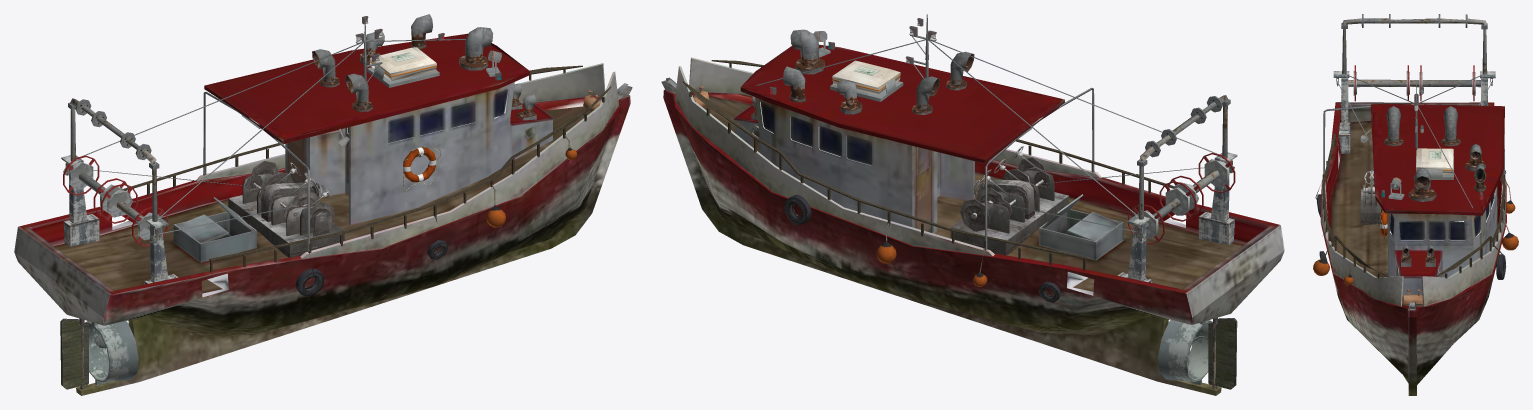
File: shrimp_trawler.glb
3 views of the same model, side by side, from view 1: azimuth 30°, elevation 25°; view 2: azimuth 150°, elevation 25°; view 3: azimuth 270°, elevation 25° (orthographic). The views are drawn at different scales.
Visible parts, largest first — view 1: bateau_peche_bateau_peche_coque_0, bateau_peche_chalut_0, bateau_peche_machinerie_0, bateau_peche_helice_0, bateau_peche_aerations_0, bateau_peche_rembarde_0, bateau_peche_metal_0, bateau_peche_accessoires_0, bateau_peche_pneu_0, bateau_peche_bouee_sauvetage_0, lumieres_eclairage_0; view 2: bateau_peche_bateau_peche_coque_0, bateau_peche_chalut_0, bateau_peche_machinerie_0, bateau_peche_helice_0, bateau_peche_aerations_0, bateau_peche_rembarde_0, bateau_peche_metal_0, bateau_peche_accessoires_0, bateau_peche_pneu_0, lumieres_eclairage_0, bateau_peche_bouee_0; view 3: bateau_peche_bateau_peche_coque_0, bateau_peche_chalut_0, bateau_peche_aerations_0, bateau_peche_rembarde_0, bateau_peche_accessoires_0, bateau_peche_metal_0, bateau_peche_machinerie_0, bateau_peche_bouee_0, lumieres_eclairage_0, bateau_peche_pneu_0, bateau_peche_bouee_sauvetage_0.
Boxes of the visible parts, <box> form: bateau_peche_bateau_peche_coque_0: <box>14,33,630,395</box>; bateau_peche_chalut_0: <box>61,98,178,313</box>; bateau_peche_machinerie_0: <box>228,160,344,257</box>; bateau_peche_helice_0: <box>60,318,138,389</box>; bateau_peche_aerations_0: <box>312,14,536,120</box>; bateau_peche_rembarde_0: <box>123,65,611,272</box>; bateau_peche_metal_0: <box>82,17,465,252</box>; bateau_peche_accessoires_0: <box>367,47,632,111</box>; bateau_peche_pneu_0: <box>295,216,447,296</box>; bateau_peche_bouee_sauvetage_0: <box>402,146,440,191</box>; lumieres_eclairage_0: <box>241,16,501,147</box>; bateau_peche_bateau_peche_coque_0: <box>663,44,1284,395</box>; bateau_peche_chalut_0: <box>1117,95,1237,312</box>; bateau_peche_machinerie_0: <box>950,146,1068,255</box>; bateau_peche_helice_0: <box>1158,317,1237,389</box>; bateau_peche_aerations_0: <box>751,29,974,119</box>; bateau_peche_rembarde_0: <box>682,60,1173,270</box>; bateau_peche_metal_0: <box>756,14,1217,250</box>; bateau_peche_accessoires_0: <box>661,60,903,106</box>; bateau_peche_pneu_0: <box>784,171,1094,302</box>; lumieres_eclairage_0: <box>770,18,1032,139</box>; bateau_peche_bouee_0: <box>876,223,987,287</box>; bateau_peche_bateau_peche_coque_0: <box>1320,102,1506,395</box>; bateau_peche_chalut_0: <box>1333,14,1495,153</box>; bateau_peche_aerations_0: <box>1384,106,1486,266</box>; bateau_peche_rembarde_0: <box>1322,134,1505,278</box>; bateau_peche_accessoires_0: <box>1403,148,1453,310</box>; bateau_peche_metal_0: <box>1323,73,1504,207</box>; bateau_peche_machinerie_0: <box>1360,169,1387,225</box>; bateau_peche_bouee_0: <box>1313,180,1518,285</box>; lumieres_eclairage_0: <box>1360,86,1483,199</box>; bateau_peche_pneu_0: <box>1315,170,1506,279</box>; bateau_peche_bouee_sauvetage_0: <box>1377,203,1387,243</box>.
Size of the model in its own units: 13.13 by 6.75 by 4.8.
12 materials, 12 textured.
